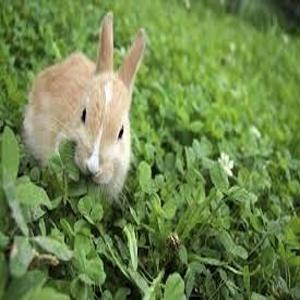rabbit: (23, 13, 143, 197)
